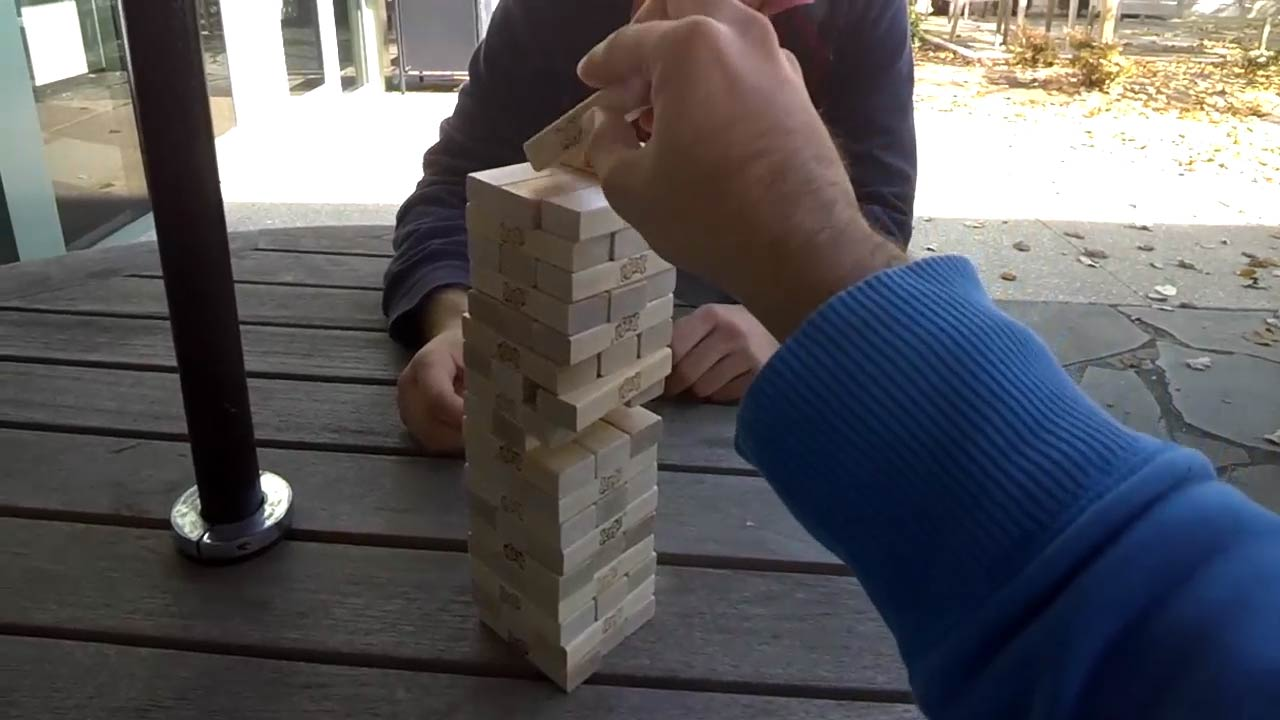hand: (668, 300, 776, 401), (388, 325, 471, 448)
